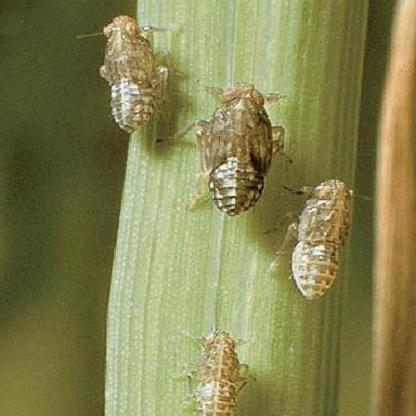brown-planthopper: (200, 81, 273, 217), (286, 174, 354, 298), (98, 15, 160, 133), (178, 332, 251, 416)
